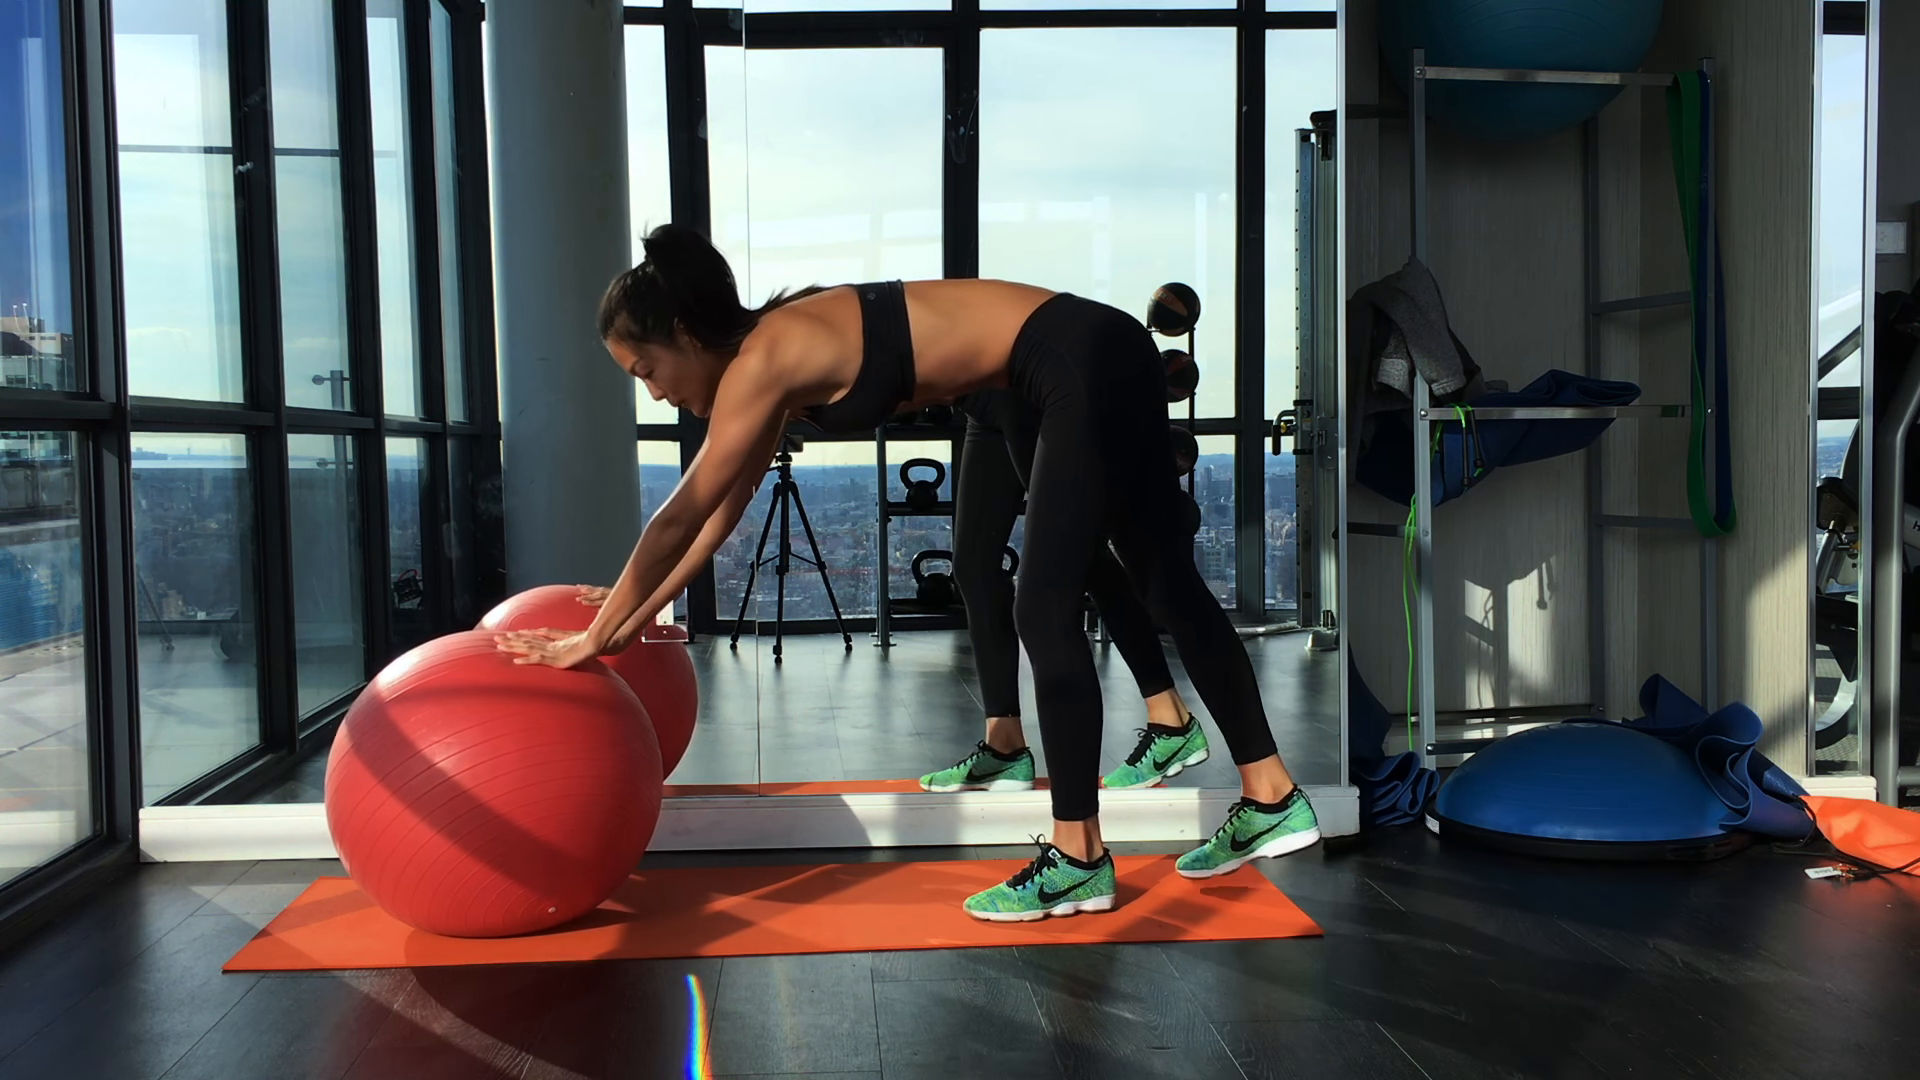yogaball: (319, 624, 659, 938)
